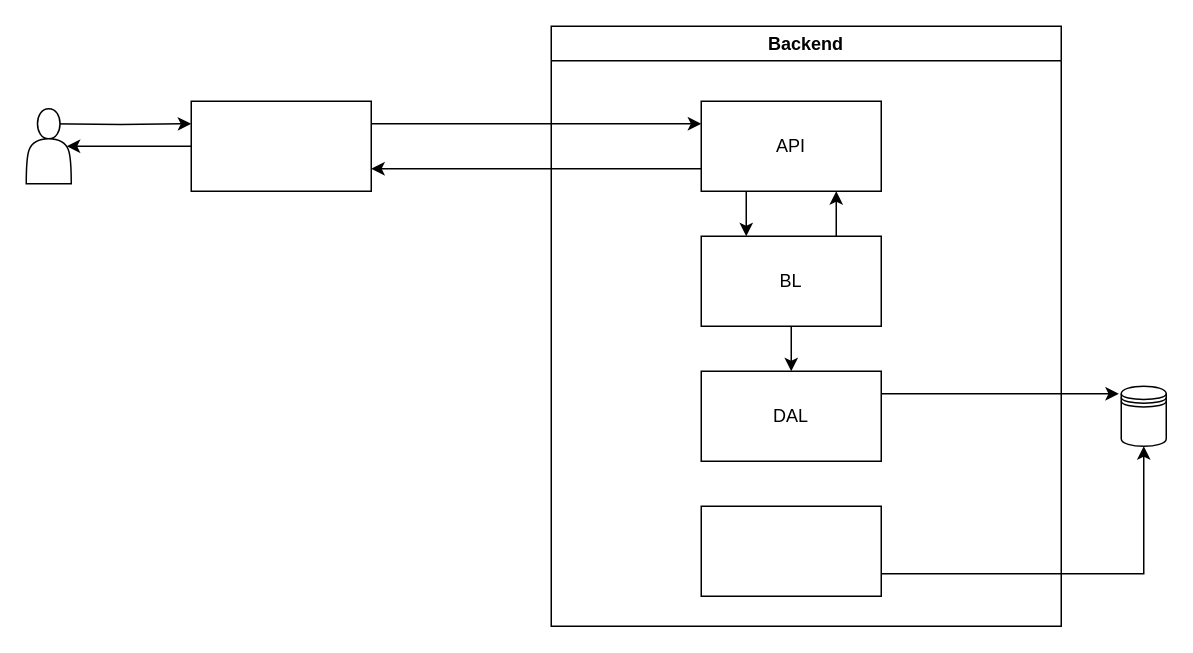
Image size: 1193x653. Some labels were removed from this diagram. Each missing label, with the centre of its shape:
"Migrations" goes at point 790,550.
"UI (React)" goes at point 280,145.
